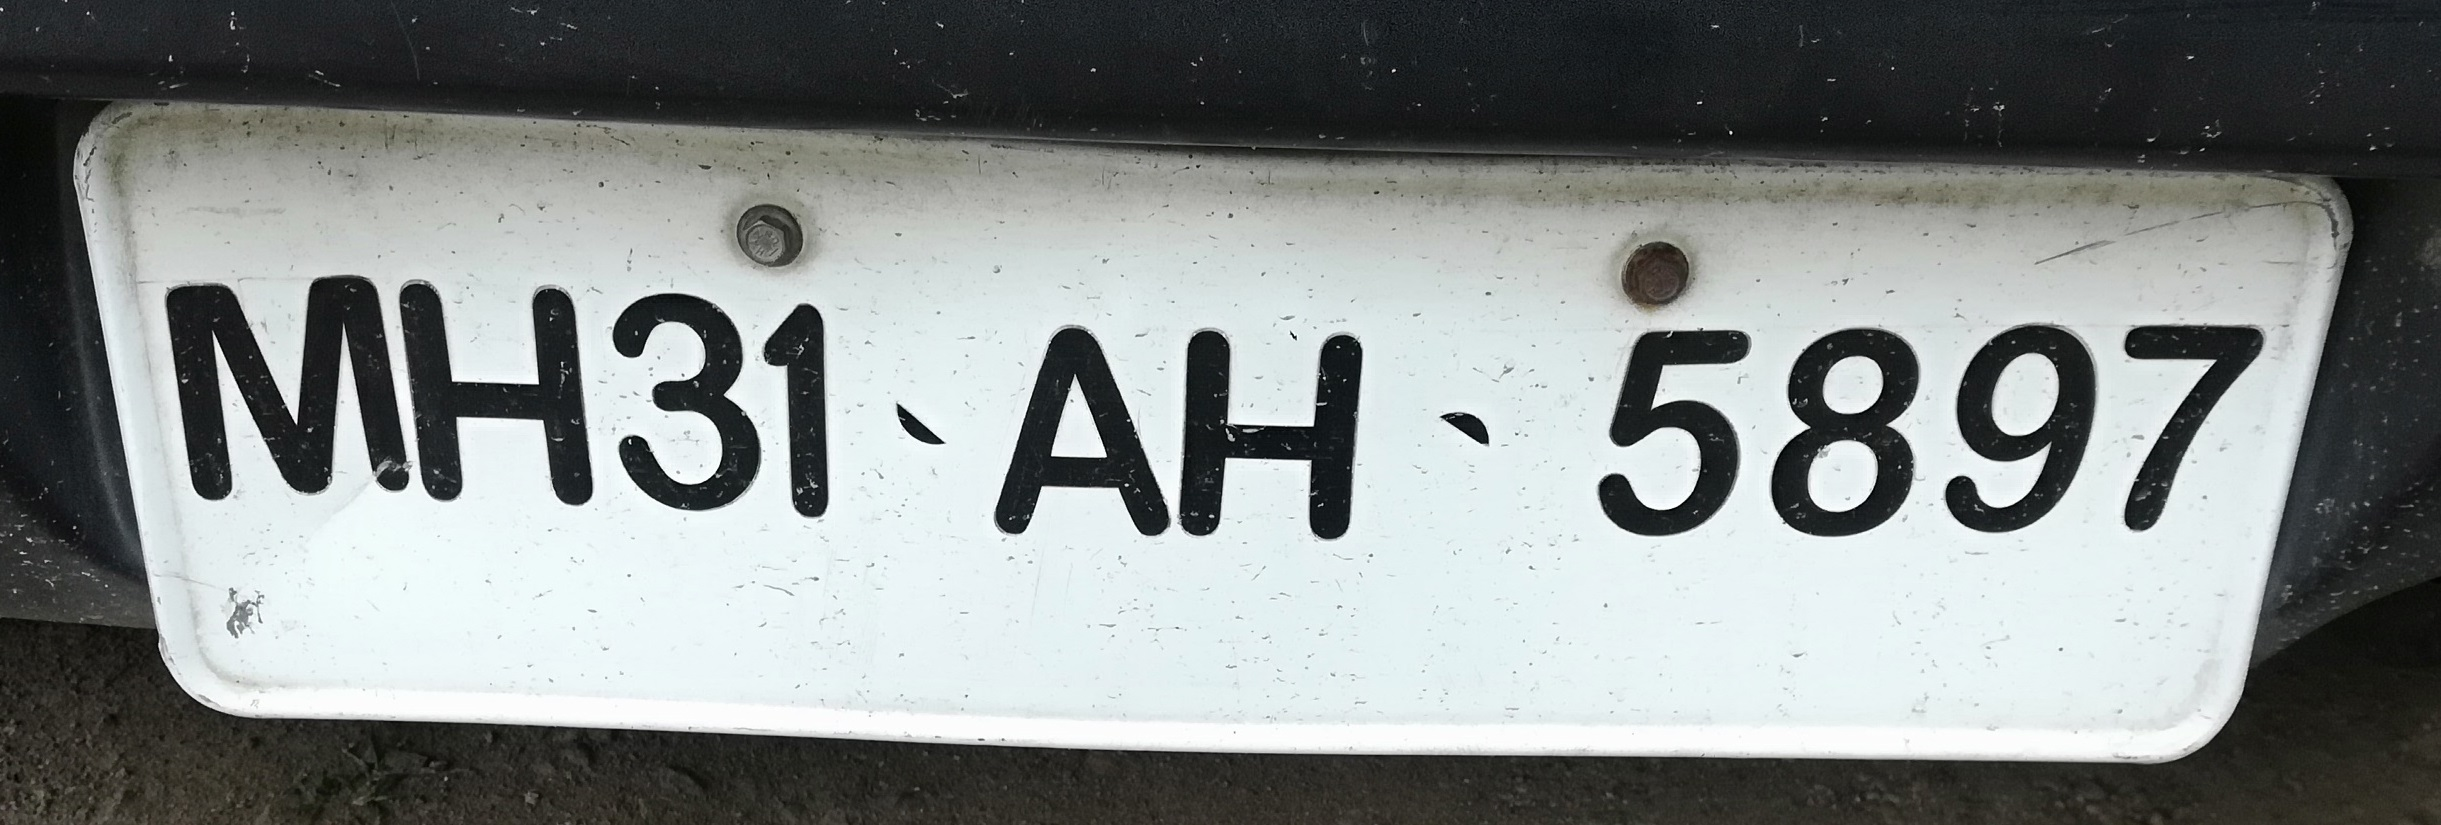numberplate: (65, 95, 2362, 785)
